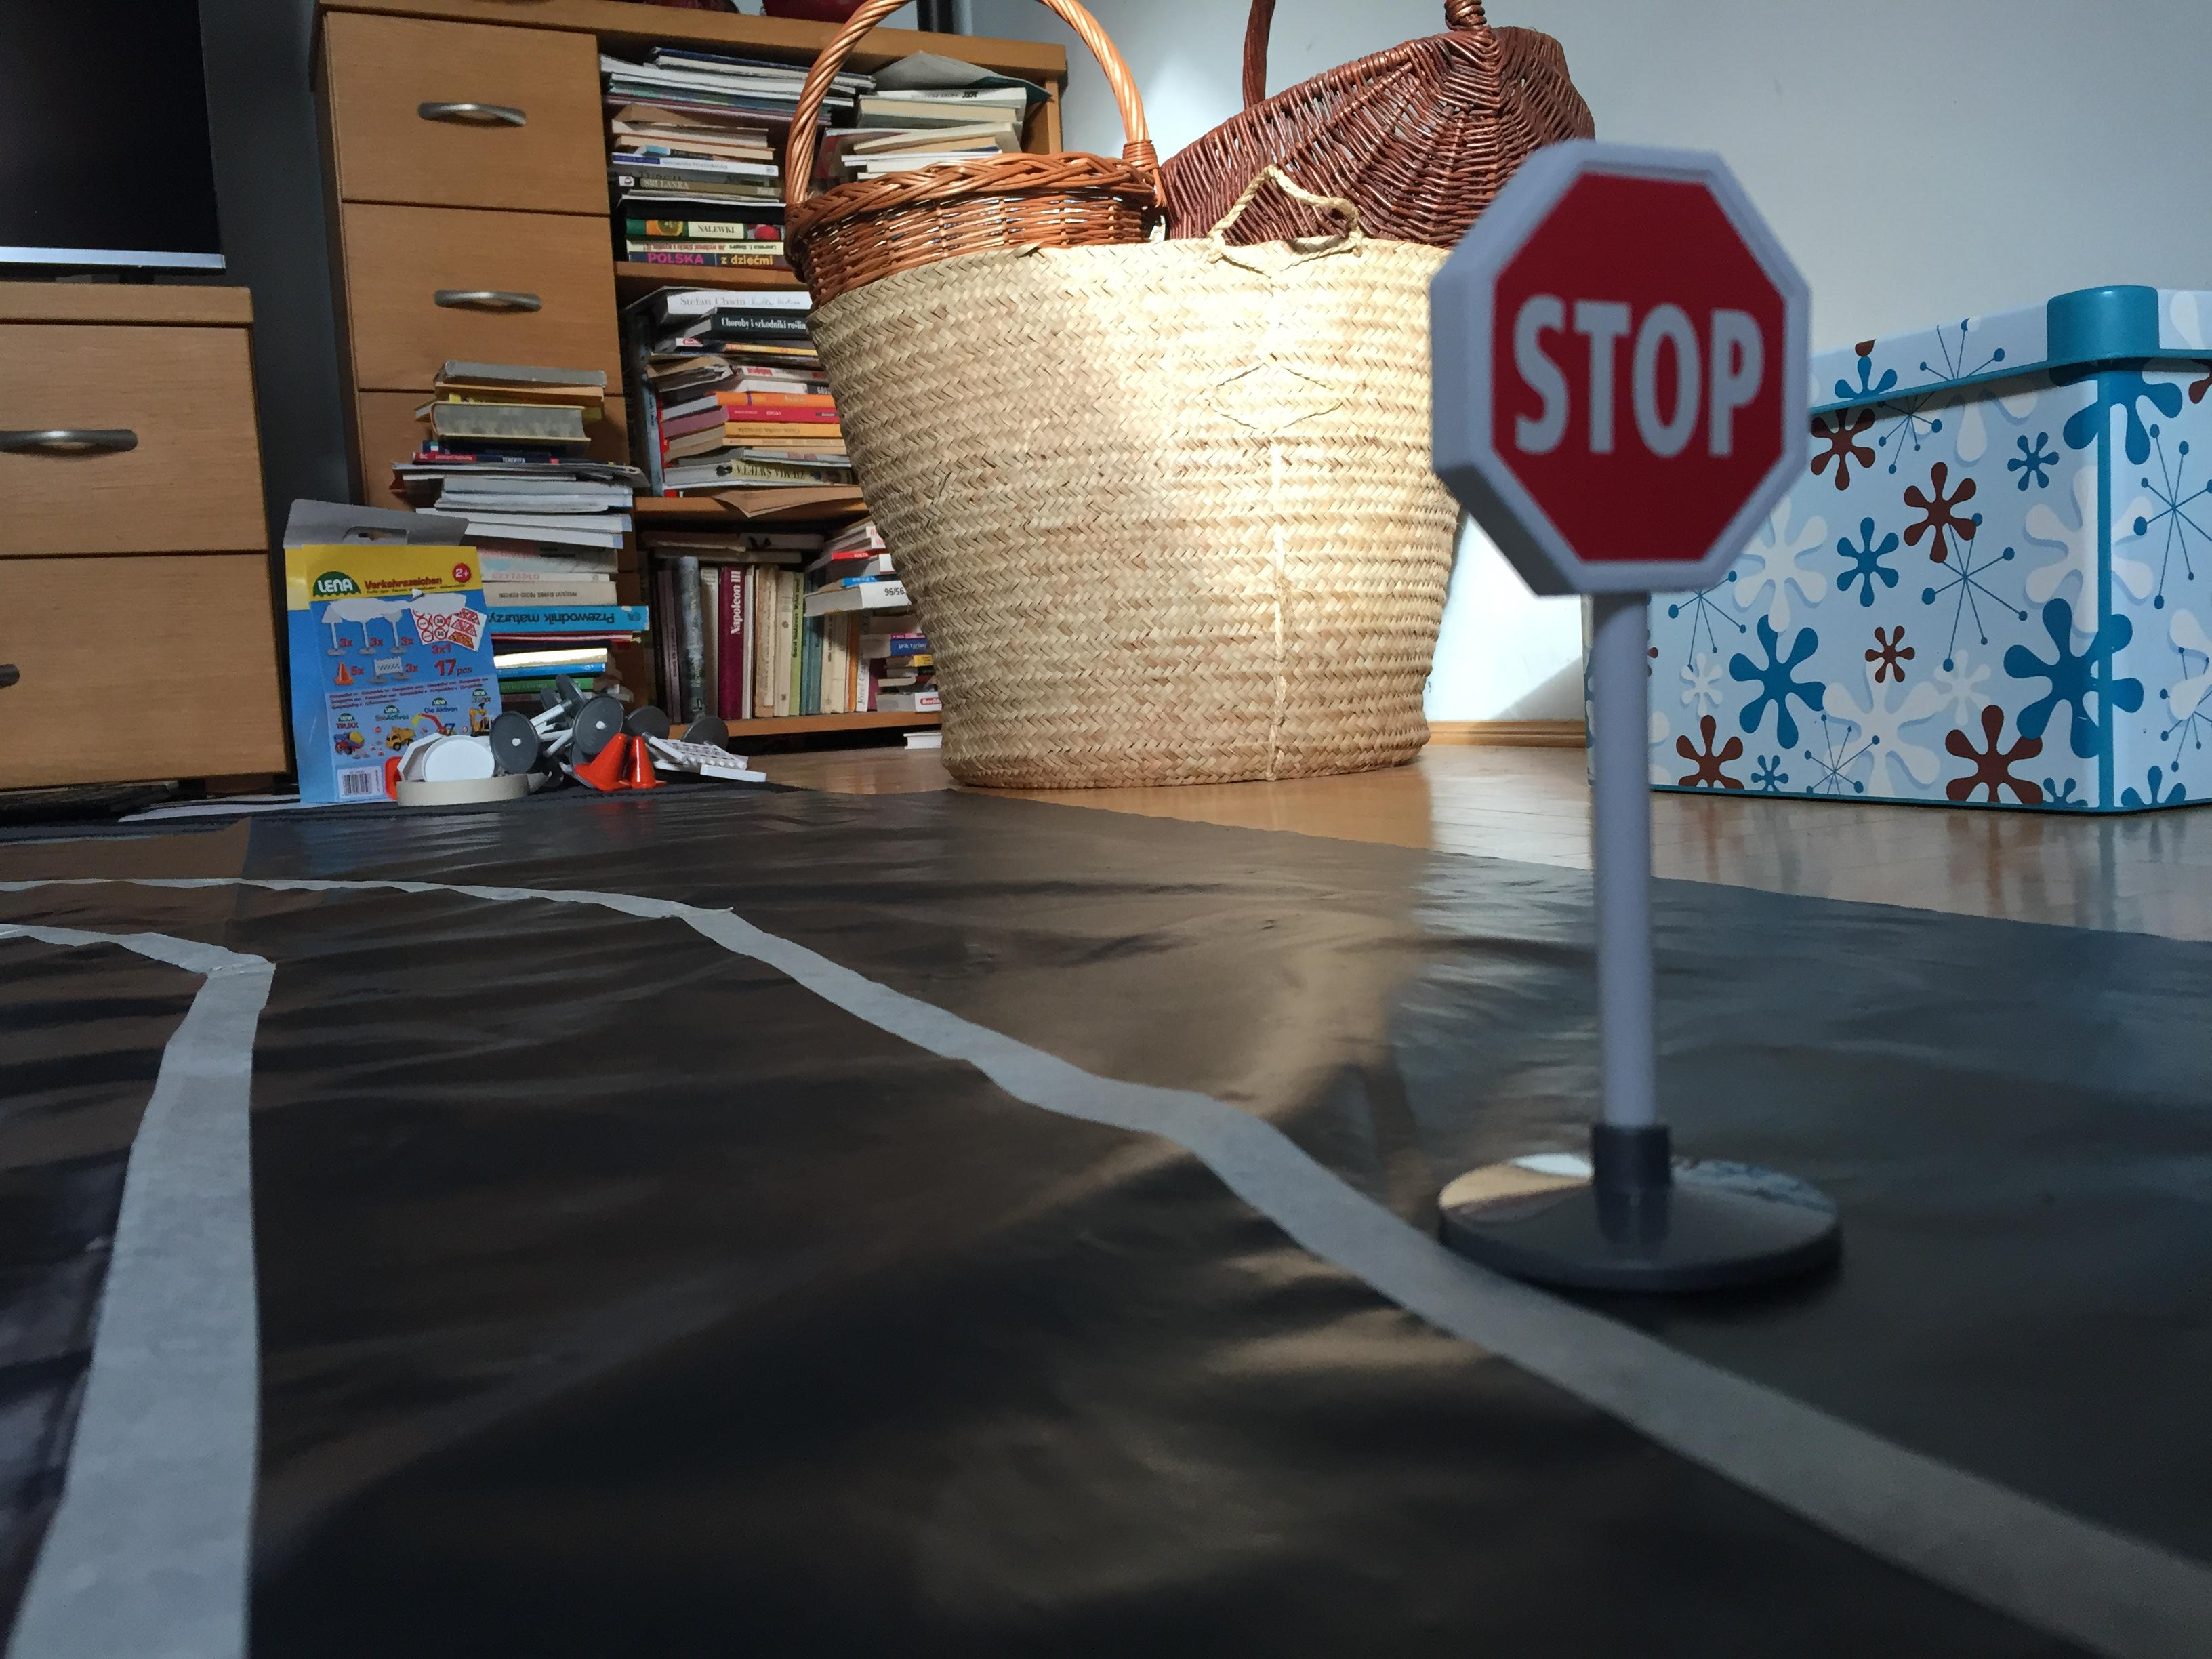stop: (1414, 131, 1829, 615)
